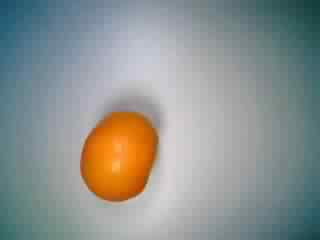orange: (65, 111, 161, 207)
